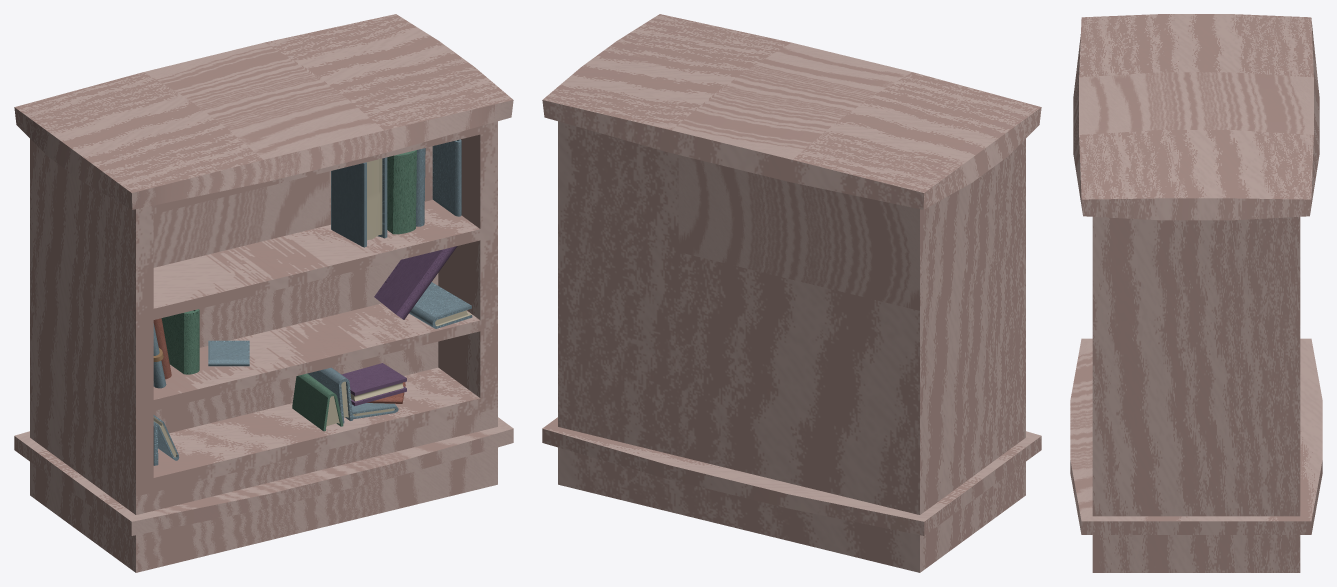
The model's file is bookshelf_halffull.fbx.
3 views of the same model, side by side, from view 1: azimuth 30°, elevation 25°; view 2: azimuth 150°, elevation 25°; view 3: azimuth 270°, elevation 25° (orthographic). The views are drawn at different scales.
Parts seen in each view (by area): view 1: polySurface725; view 2: polySurface725; view 3: polySurface725.
Part boxes in pixels (<box>): polySurface725: <box>14,14,513,572</box>; polySurface725: <box>542,14,1041,572</box>; polySurface725: <box>1070,14,1322,572</box>.
Bounding box in the file's own units: 1.66 × 1.58 × 0.9373.
8 materials, 6 textured.
